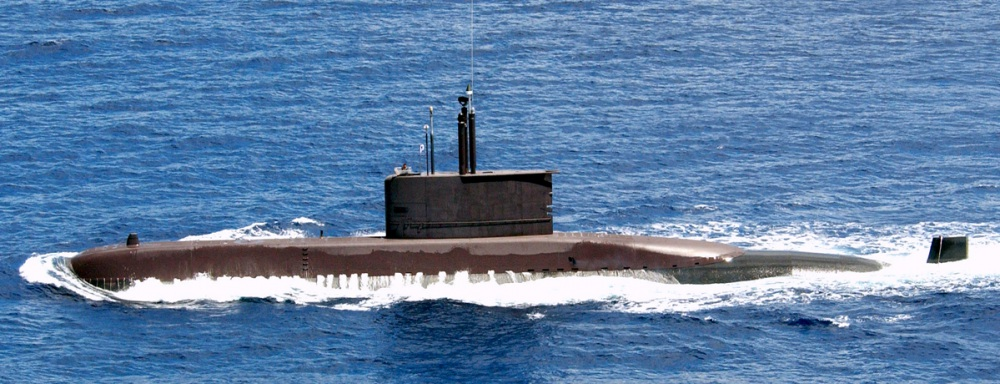Submarine: (74, 167, 885, 296)
